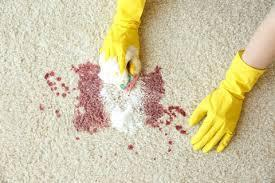oil: (138, 71, 191, 142), (69, 59, 105, 134), (42, 68, 71, 98), (37, 102, 66, 118), (121, 141, 143, 156)
